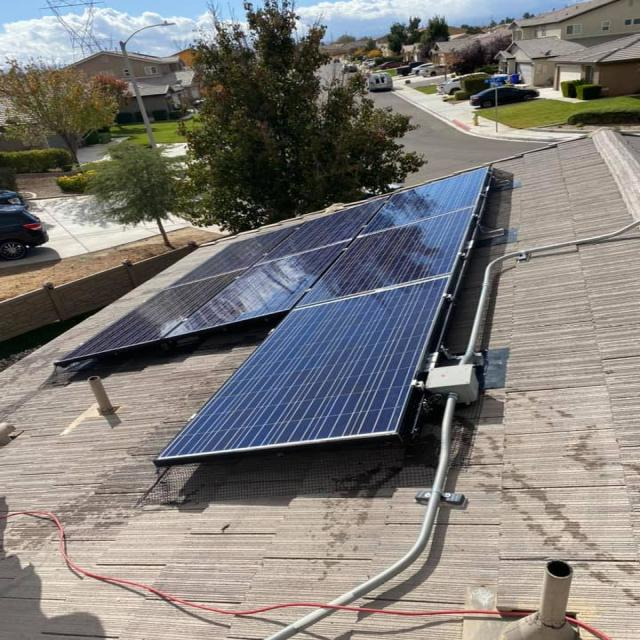clean-solar-panel: (57, 168, 490, 462)
